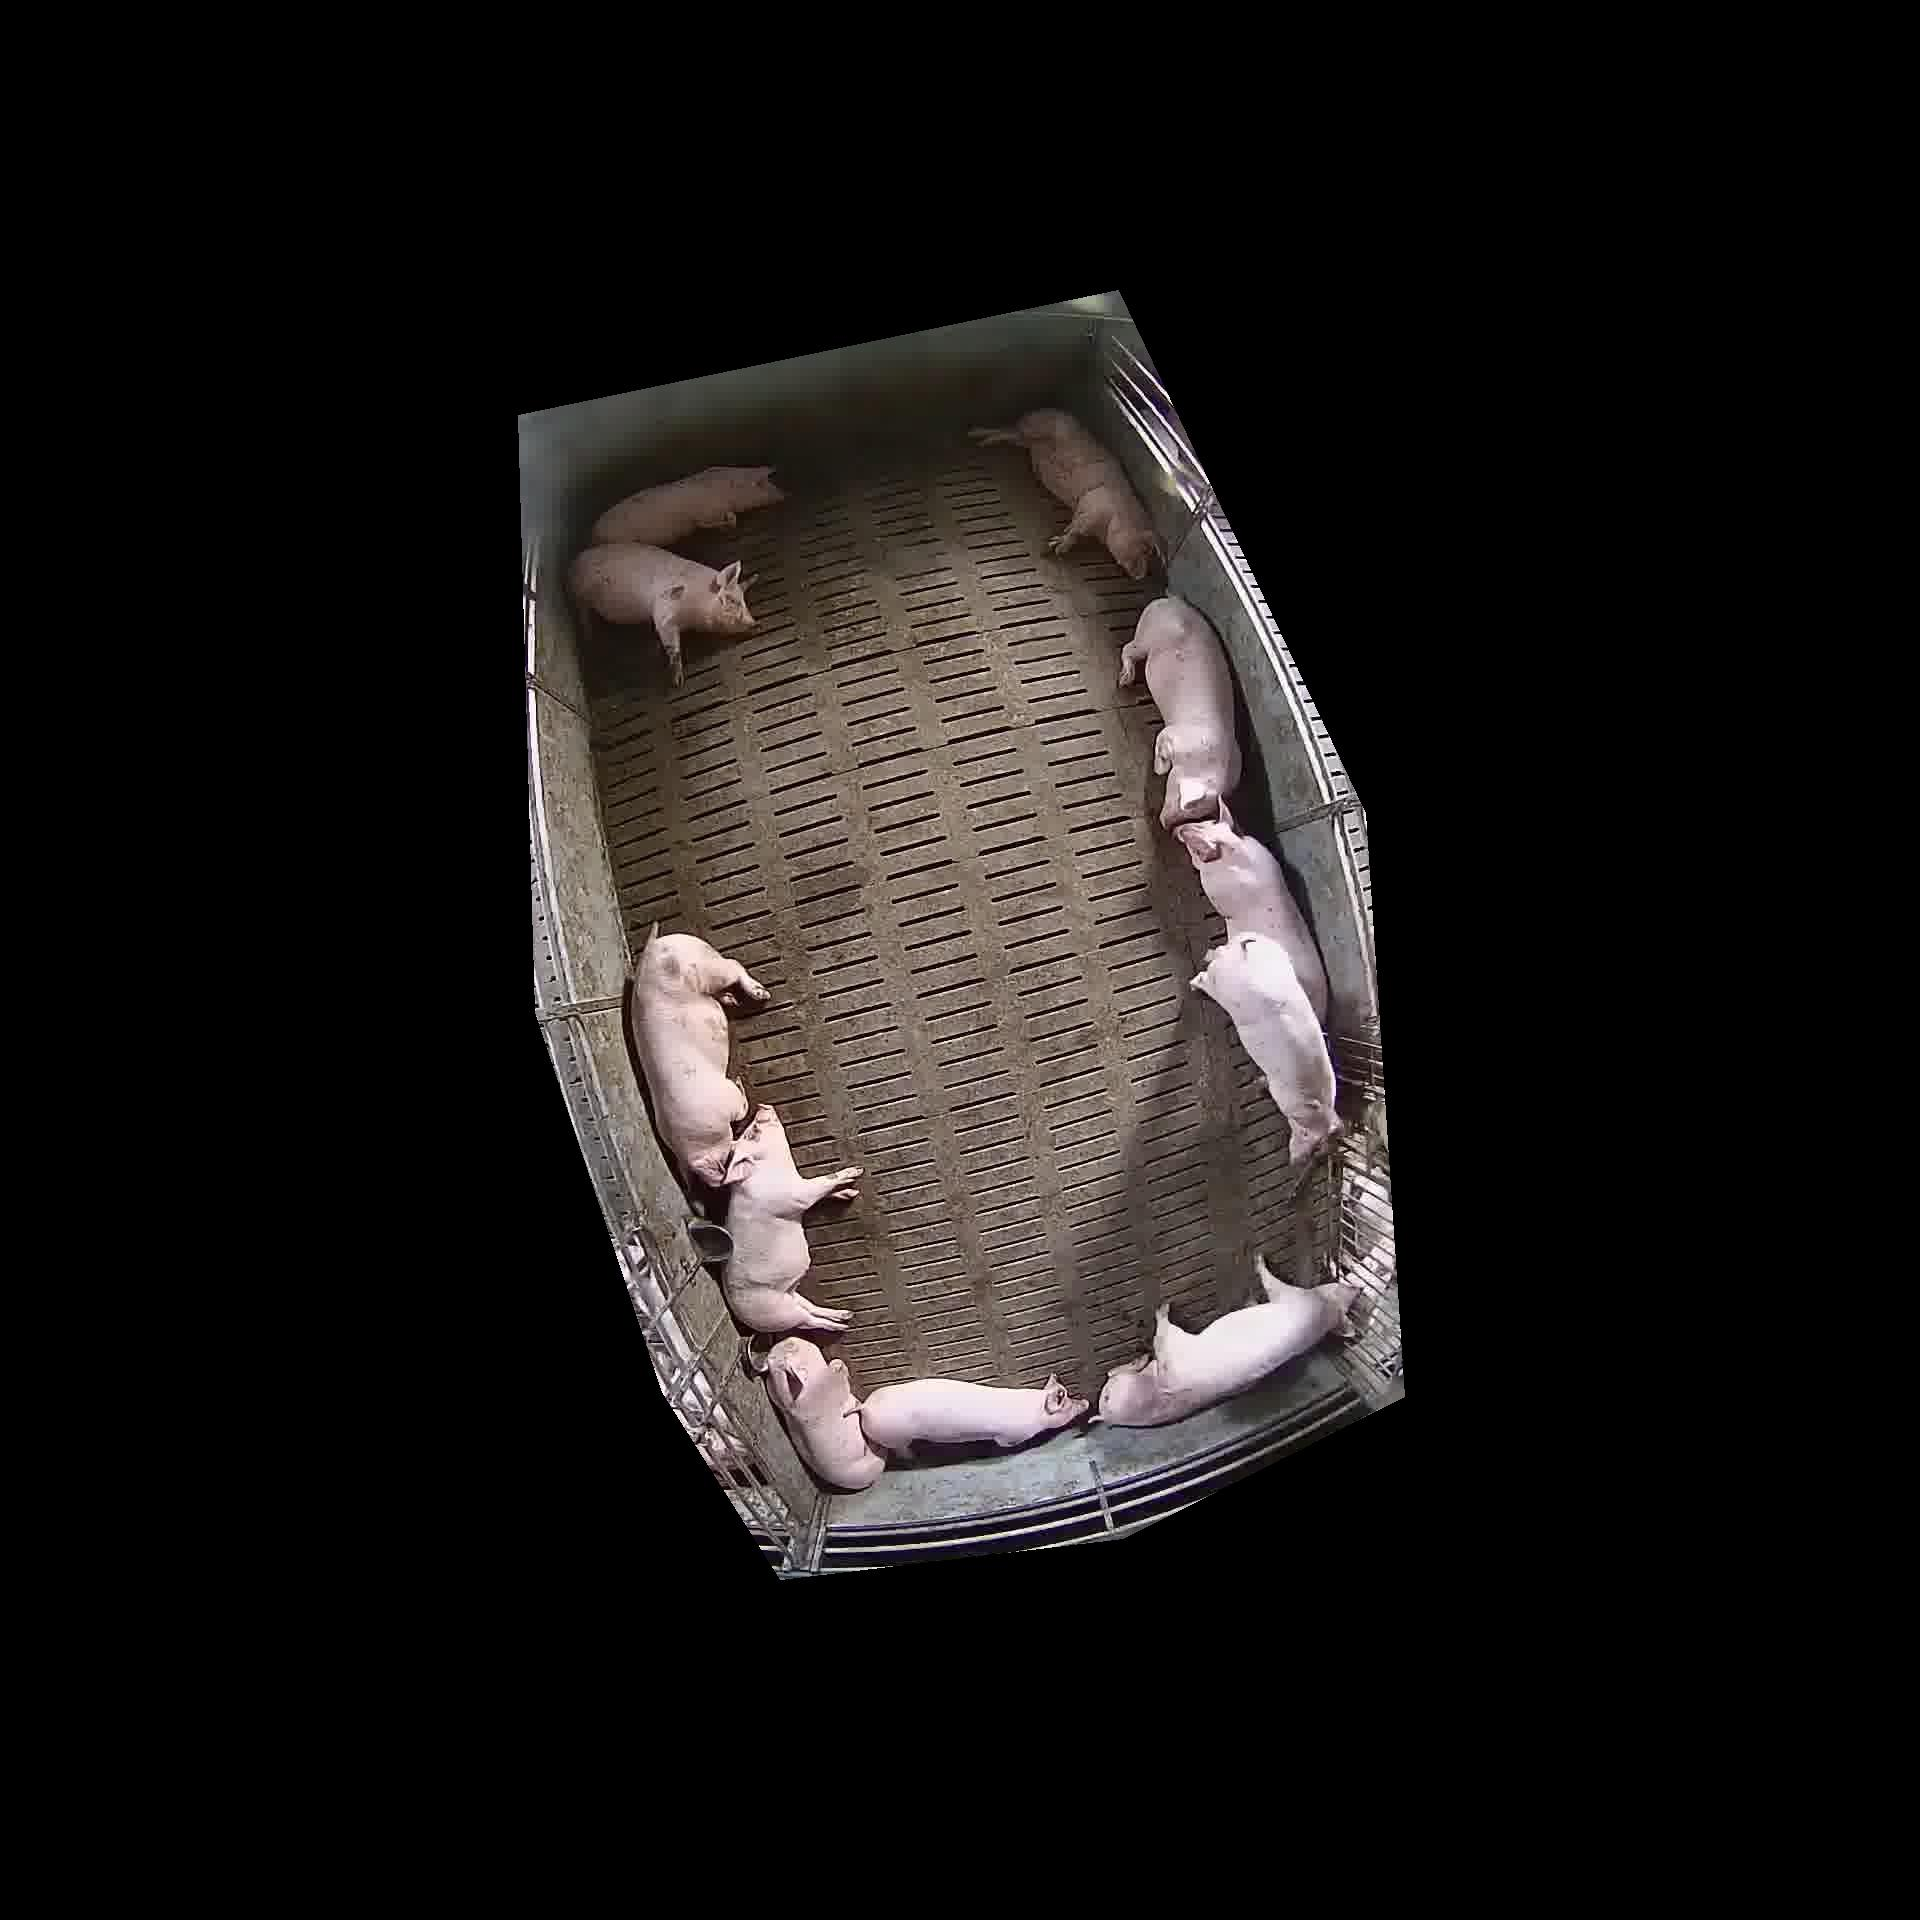pig: (763, 1336, 1088, 1489), (631, 925, 768, 1187), (1194, 932, 1340, 1169), (1175, 807, 1327, 1020), (971, 410, 1157, 578), (723, 1106, 862, 1331), (1153, 1255, 1352, 1401), (1120, 596, 1241, 828), (570, 542, 753, 684), (765, 1336, 884, 1489), (860, 1377, 1088, 1456), (593, 468, 782, 545), (1088, 1354, 1204, 1424)
